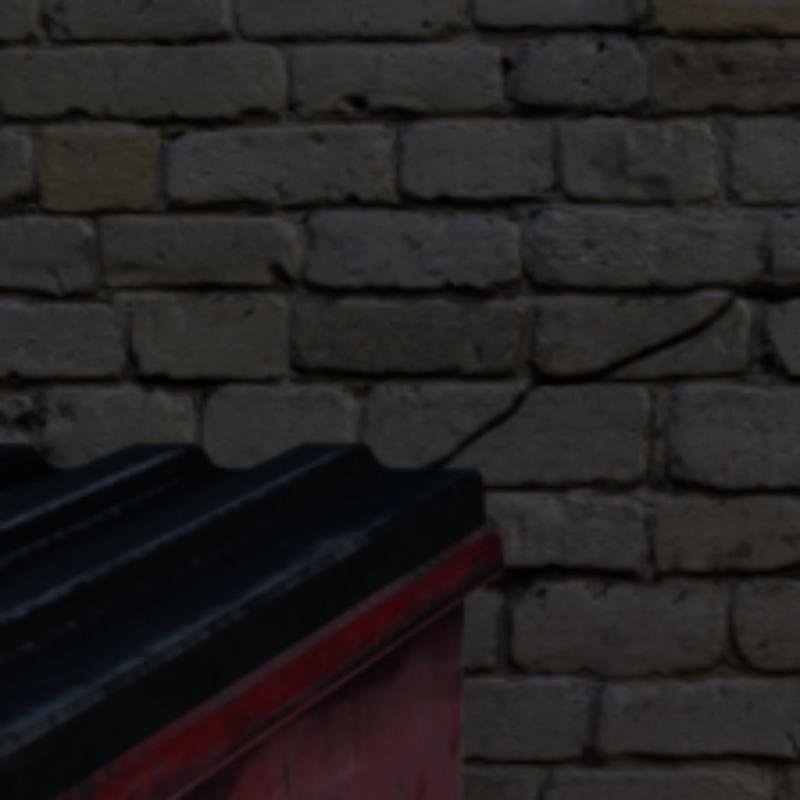crack: (421, 289, 796, 464)
